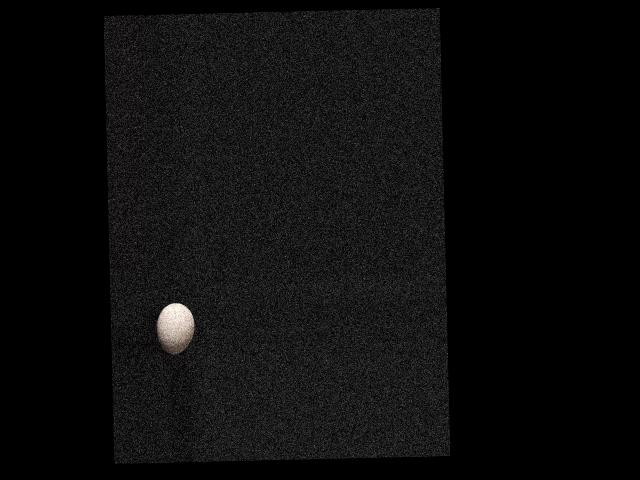egg: (156, 301, 194, 354)
